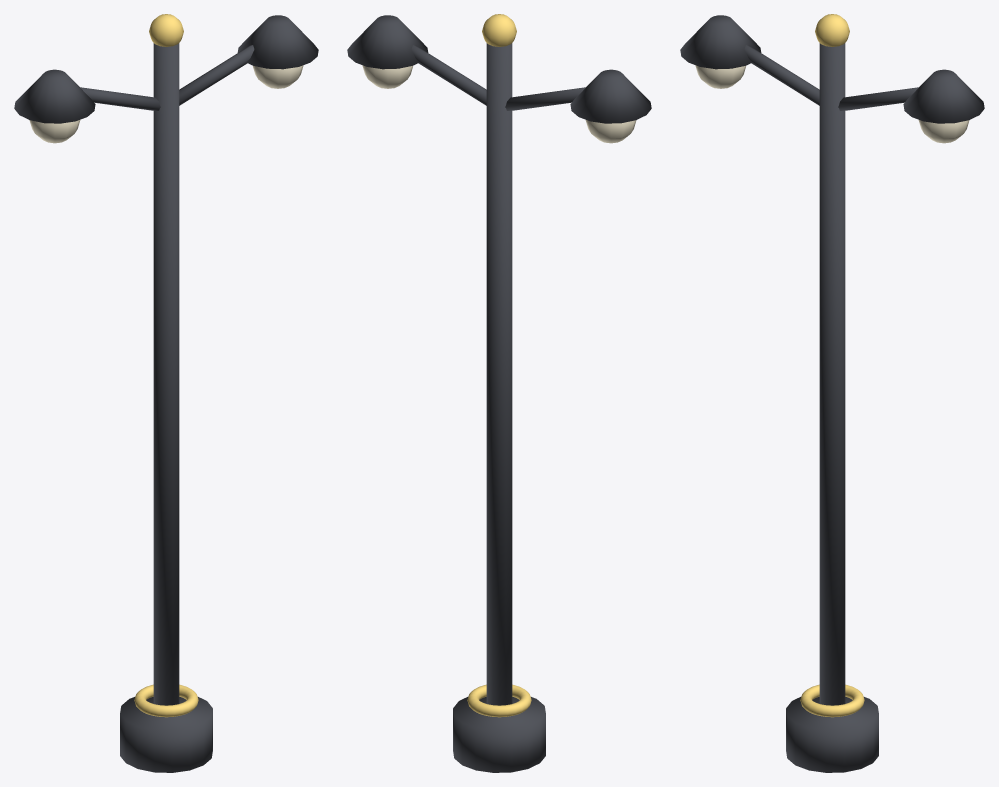
Rendered from StreetLamp.fbx.
3 views of the same model, side by side, from view 1: azimuth 30°, elevation 25°; view 2: azimuth 150°, elevation 25°; view 3: azimuth 330°, elevation 25° (orthographic).
Parts seen in each view (by area): view 1: Dark.006, Gold.003, Glow.005; view 2: Dark.006, Gold.003, Glow.005; view 3: Dark.006, Gold.003, Glow.005.
Part boxes in pixels (x1,y1,x2,y2): Dark.006: (14,15,318,772); Gold.003: (134,14,198,717); Glow.005: (29,65,303,143); Dark.006: (347,15,651,772); Gold.003: (467,14,531,717); Glow.005: (362,65,636,143); Dark.006: (680,15,984,772); Gold.003: (800,14,864,717); Glow.005: (695,65,969,143).
Bounding box in the file's own units: 580 × 1390 × 160.
